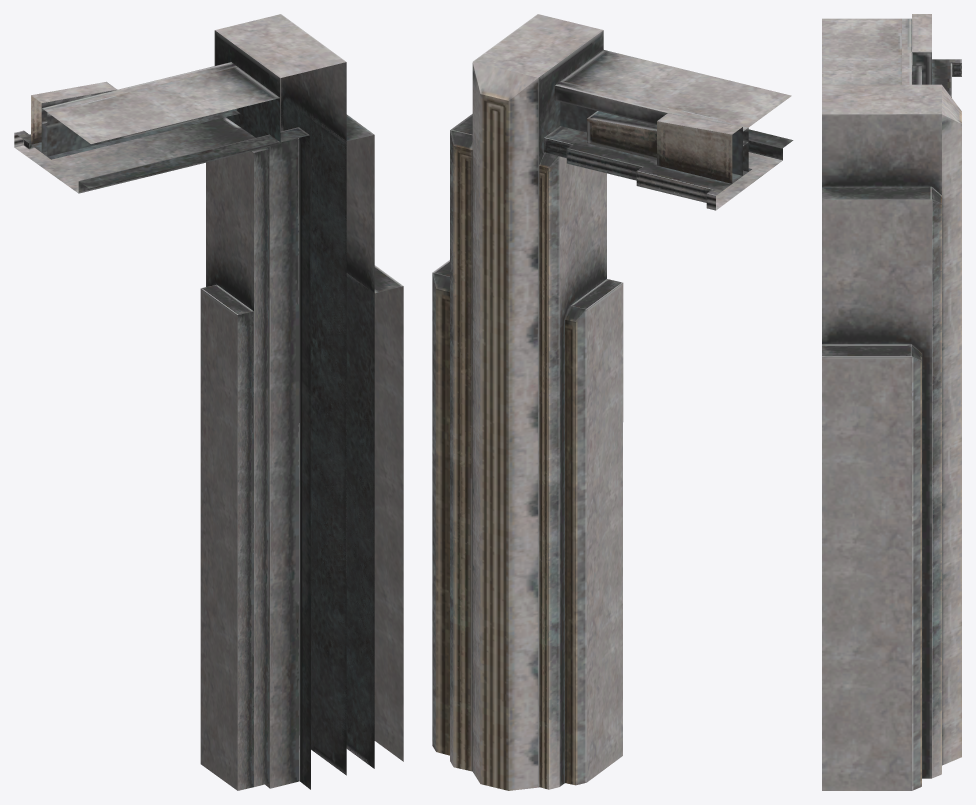
Rendered from door_frame_left.obj.
3 views of the same model, side by side, from view 1: azimuth 30°, elevation 25°; view 2: azimuth 150°, elevation 25°; view 3: azimuth 270°, elevation 25° (orthographic). The views are drawn at different scales.
Parts seen in each view (by area): view 1: door_frame_left; view 2: door_frame_left; view 3: door_frame_left.
Part boxes in pixels (x1,y1,x2,y2): door_frame_left: [14, 14, 403, 790]; door_frame_left: [432, 14, 793, 790]; door_frame_left: [822, 14, 961, 790].
Bounding box in the file's own units: 133 × 290 × 56.
Materials: 1 (1 with a texture image).
